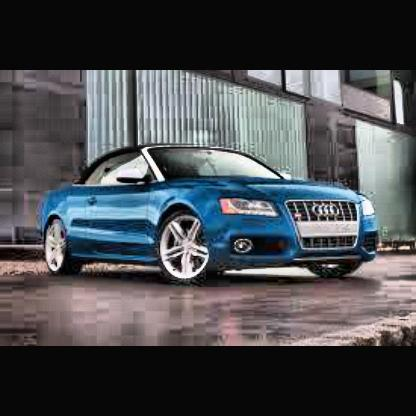Audi TTS Coupe 2012: (41, 146, 384, 291)
